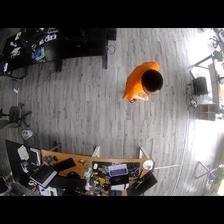normal: (124, 60, 163, 103)
